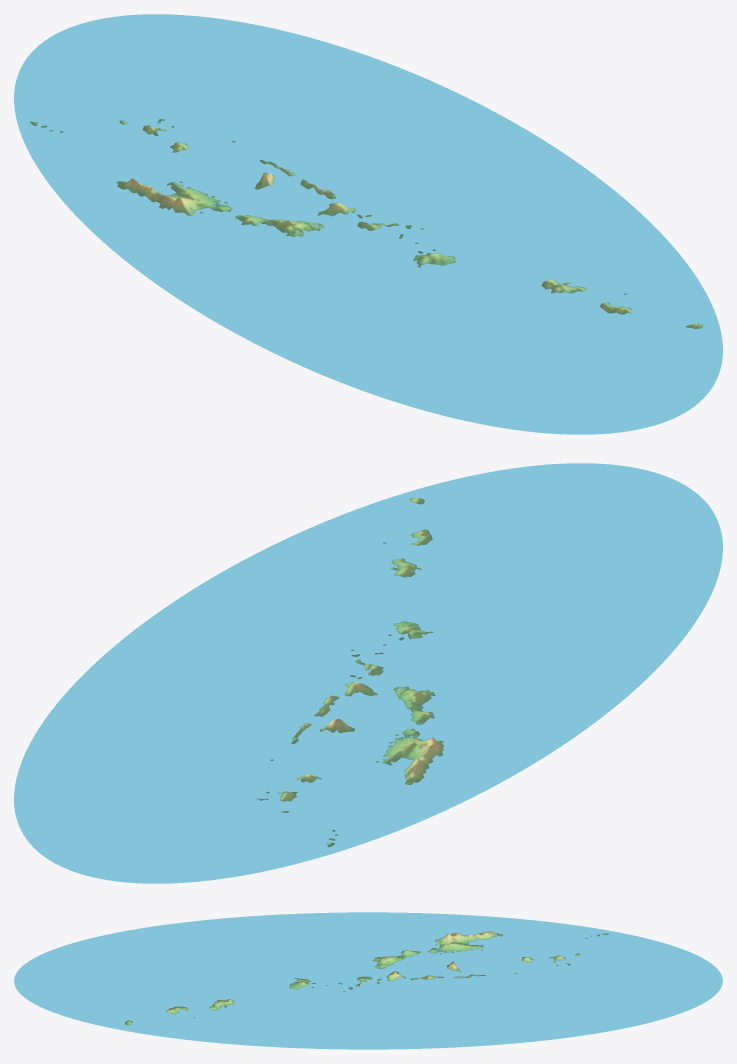
File: VUT-terrain.glb
3 renders of one model, top to bottom at view 1: azimuth 30°, elevation 25°; view 2: azimuth 150°, elevation 25°; view 3: azimuth 270°, elevation 25°, orthographic. The views are drawn at different scales.
Visible parts, largest first — view 1: Relevo com hidrografia; view 2: Relevo com hidrografia; view 3: Relevo com hidrografia.
Part boxes in pixels (<box>): Relevo com hidrografia: <box>14,14,722,434</box>; Relevo com hidrografia: <box>14,463,722,883</box>; Relevo com hidrografia: <box>14,912,722,1049</box>.
Bounding box in the file's own units: 1.08 × 0.0305 × 2.36.
Materials: 2 (1 with a texture image).
